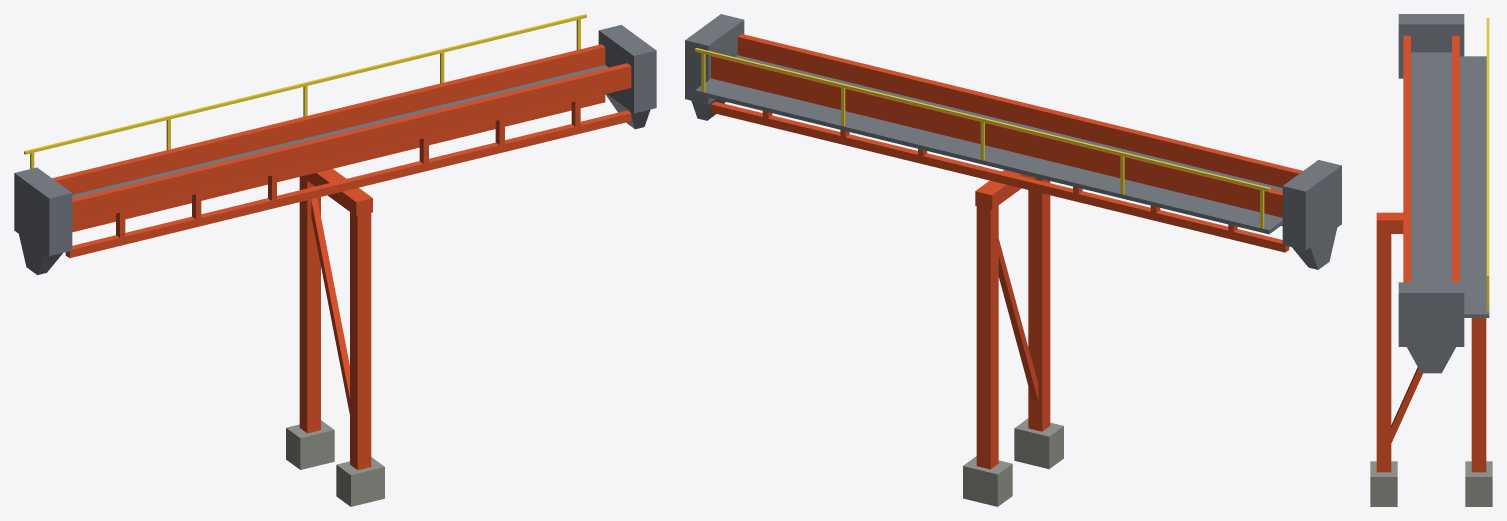
Rendered from site_conveyor.fbx.
3 renders of one model, left to right at view 1: azimuth 30°, elevation 25°; view 2: azimuth 150°, elevation 25°; view 3: azimuth 270°, elevation 25°, orthographic. The views are drawn at different scales.
Parts seen in each view (by area): view 1: a1022/0/site_conveyor; view 2: a1022/0/site_conveyor; view 3: a1022/0/site_conveyor.
Part boxes in pixels (x1,y1,x2,y2): a1022/0/site_conveyor: [14, 14, 656, 506]; a1022/0/site_conveyor: [685, 14, 1341, 506]; a1022/0/site_conveyor: [1370, 14, 1492, 506].
Size of the model in its own units: 16 by 9.42 by 2.96.
